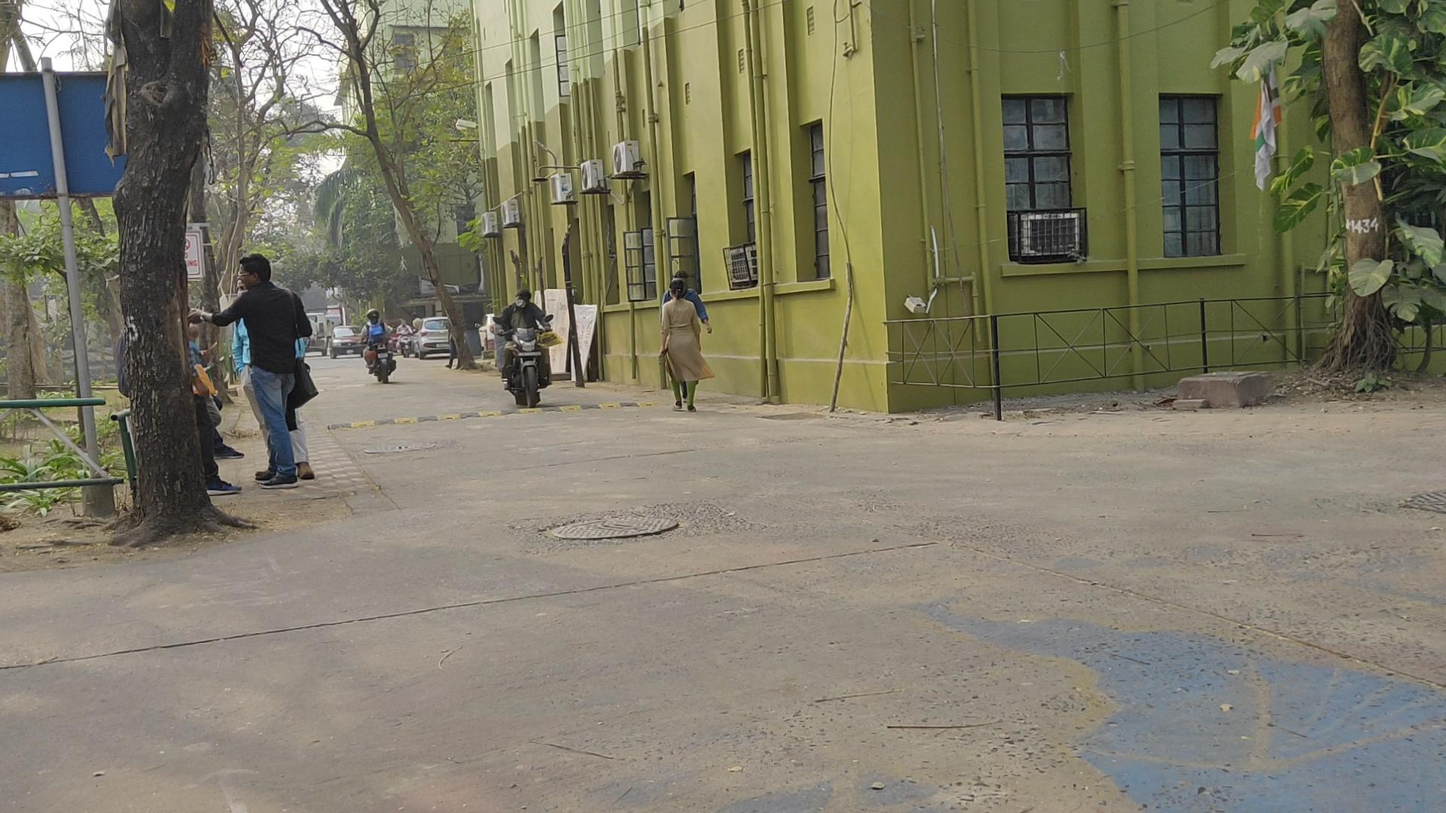bike: (492, 290, 561, 410), (359, 309, 398, 385), (395, 319, 416, 358)
car: (412, 316, 457, 360), (328, 325, 367, 358)
